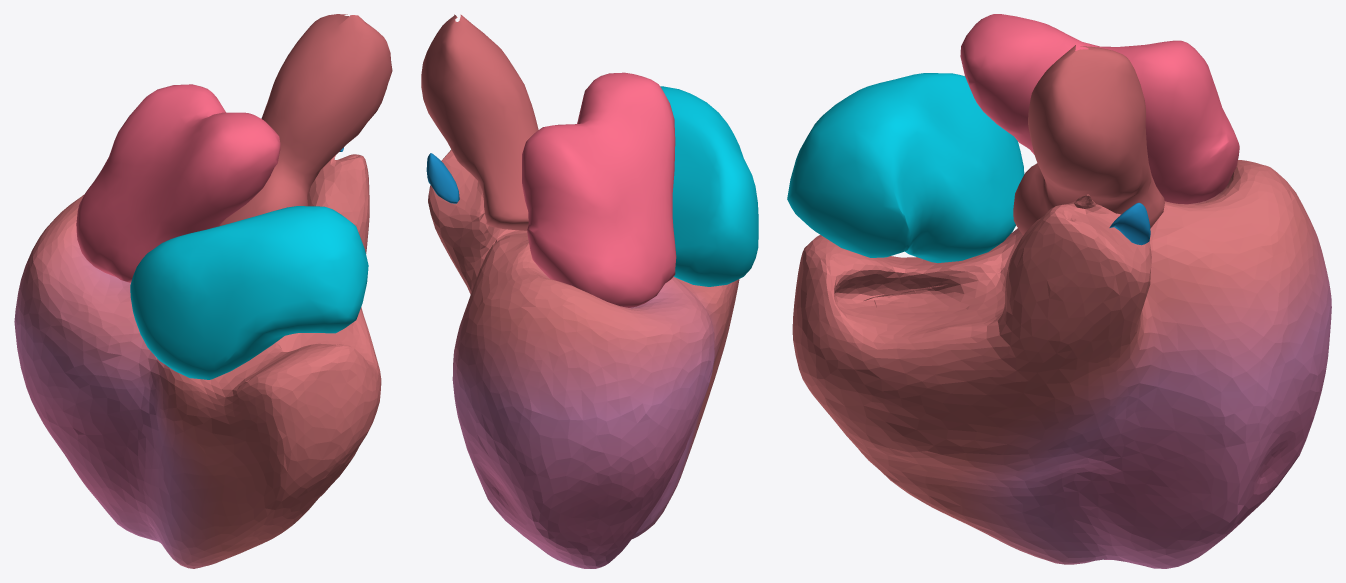
File: frame_32.glb
3 renders of one model, left to right at view 1: azimuth 30°, elevation 25°; view 2: azimuth 150°, elevation 25°; view 3: azimuth 270°, elevation 25°, orthographic. The views are drawn at different scales.
Parts seen in each view (by area): view 1: Renderer Node; view 2: Renderer Node; view 3: Renderer Node.
Part boxes in pixels (bbox=[...]): Renderer Node: bbox=[14, 14, 392, 568]; Renderer Node: bbox=[421, 14, 758, 568]; Renderer Node: bbox=[787, 14, 1331, 568].
Size of the model in its own units: 100 by 154 by 123.
